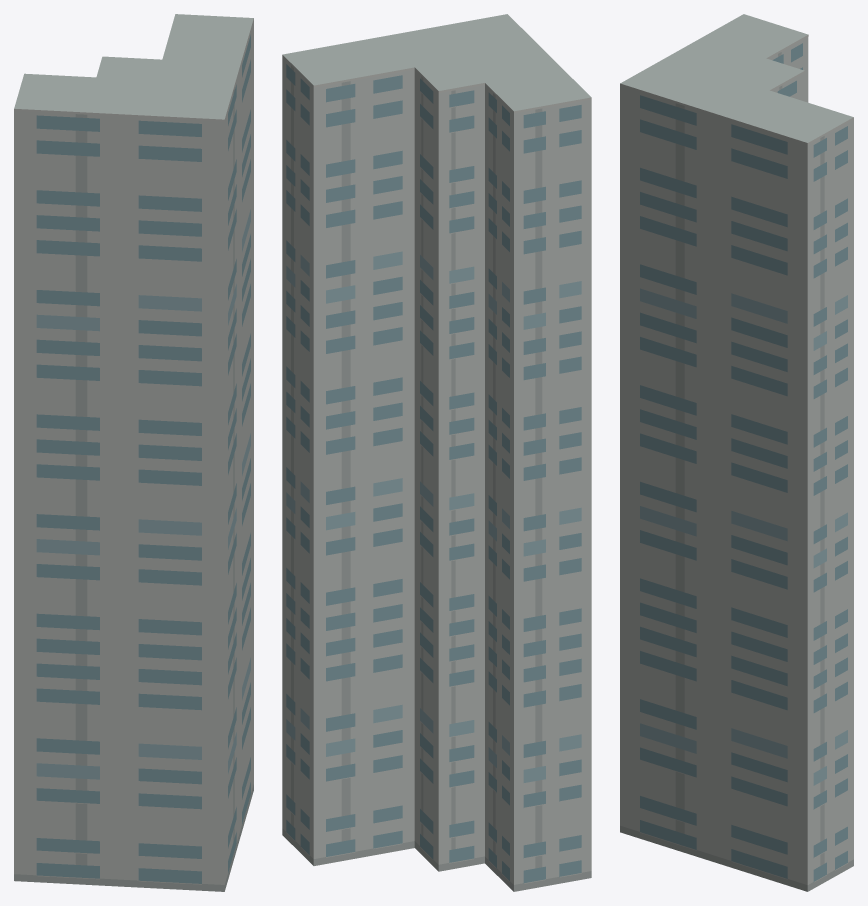
File: residential-6ffdd952-2910-46e0-8ac1-6994a4dba839.glb
3 renders of one model, left to right at view 1: azimuth 30°, elevation 25°; view 2: azimuth 150°, elevation 25°; view 3: azimuth 270°, elevation 25°, orthographic. The views are drawn at different scales.
Parts seen in each view (by area): view 1: residential-6ffdd952-2910-46e0-8ac1-6994a4dba839.tmp; view 2: residential-6ffdd952-2910-46e0-8ac1-6994a4dba839.tmp; view 3: residential-6ffdd952-2910-46e0-8ac1-6994a4dba839.tmp.
Part boxes in pixels (x1,y1,x2,y2): residential-6ffdd952-2910-46e0-8ac1-6994a4dba839.tmp: (14, 14, 253, 891); residential-6ffdd952-2910-46e0-8ac1-6994a4dba839.tmp: (282, 14, 591, 891); residential-6ffdd952-2910-46e0-8ac1-6994a4dba839.tmp: (620, 14, 853, 891).
Bounding box in the file's own units: 32.54 × 88 × 24.9.
